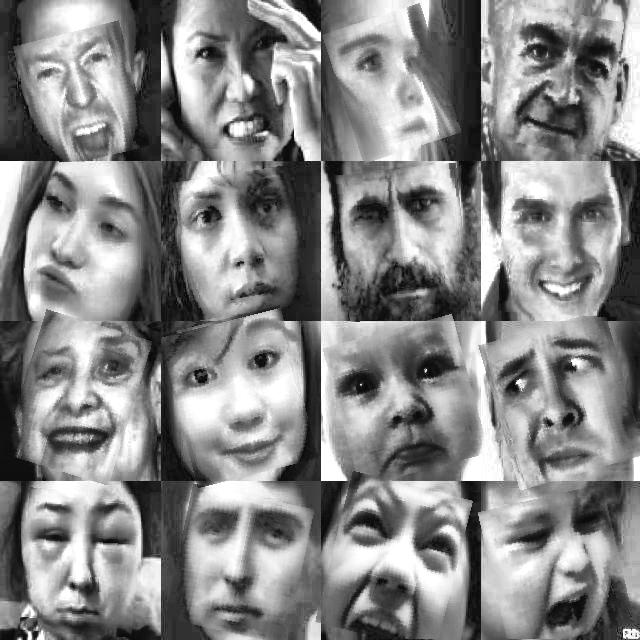angry: (331, 322, 481, 480), (496, 8, 618, 153), (20, 26, 143, 166), (182, 10, 293, 149)
fear: (323, 477, 464, 640)
happy: (168, 312, 310, 482), (12, 316, 143, 479), (500, 174, 622, 316)
neutral: (487, 316, 636, 482), (172, 489, 308, 639), (25, 162, 147, 316), (331, 10, 452, 158)
sad: (485, 489, 626, 640), (339, 166, 467, 320), (177, 169, 305, 317), (23, 489, 139, 636)
